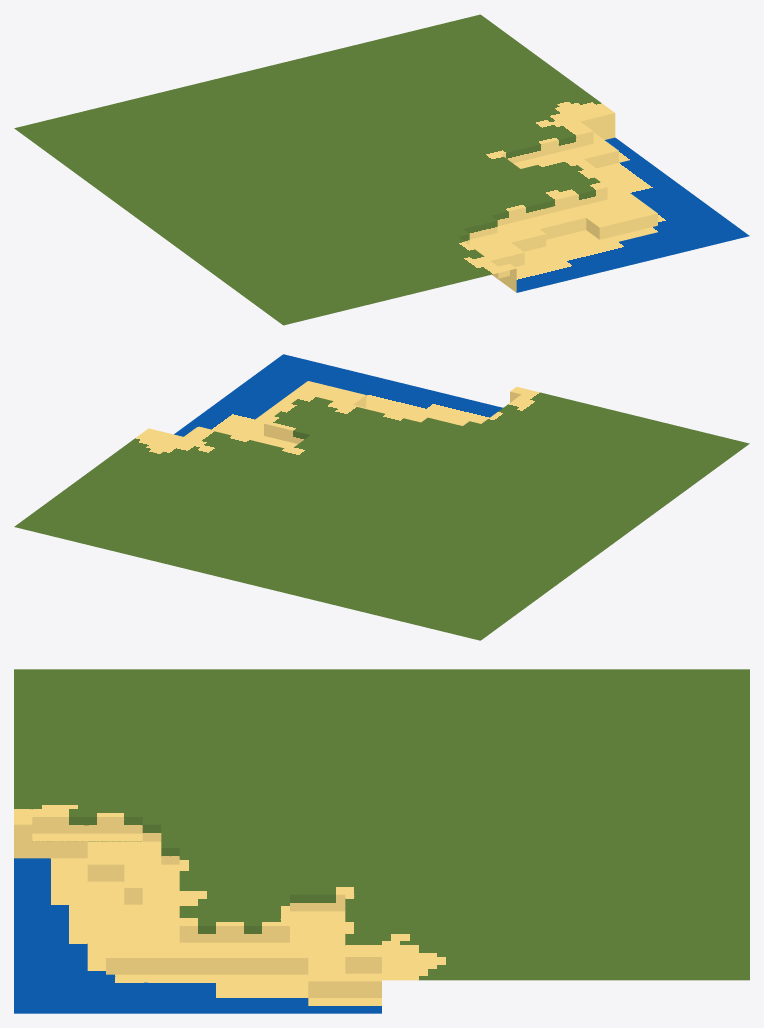
File: LLWL(2).glb
3 renders of one model, top to bottom at view 1: azimuth 30°, elevation 25°; view 2: azimuth 150°, elevation 25°; view 3: azimuth 270°, elevation 25°, orthographic. The views are drawn at different scales.
Visible parts, largest first — view 1: model_0.019; view 2: model_0.019; view 3: model_0.019.
Boxes of the visible parts, left/top/right/bottom form: model_0.019: left=14, top=14, right=749, bottom=325; model_0.019: left=14, top=354, right=749, bottom=640; model_0.019: left=14, top=669, right=749, bottom=1013.
Size of the model in its own units: 80 by 4 by 80.
Materials: 1 (1 with a texture image).
